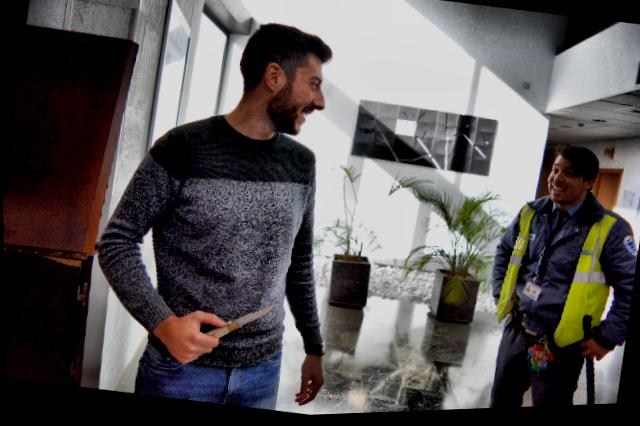knife: (197, 294, 276, 353)
